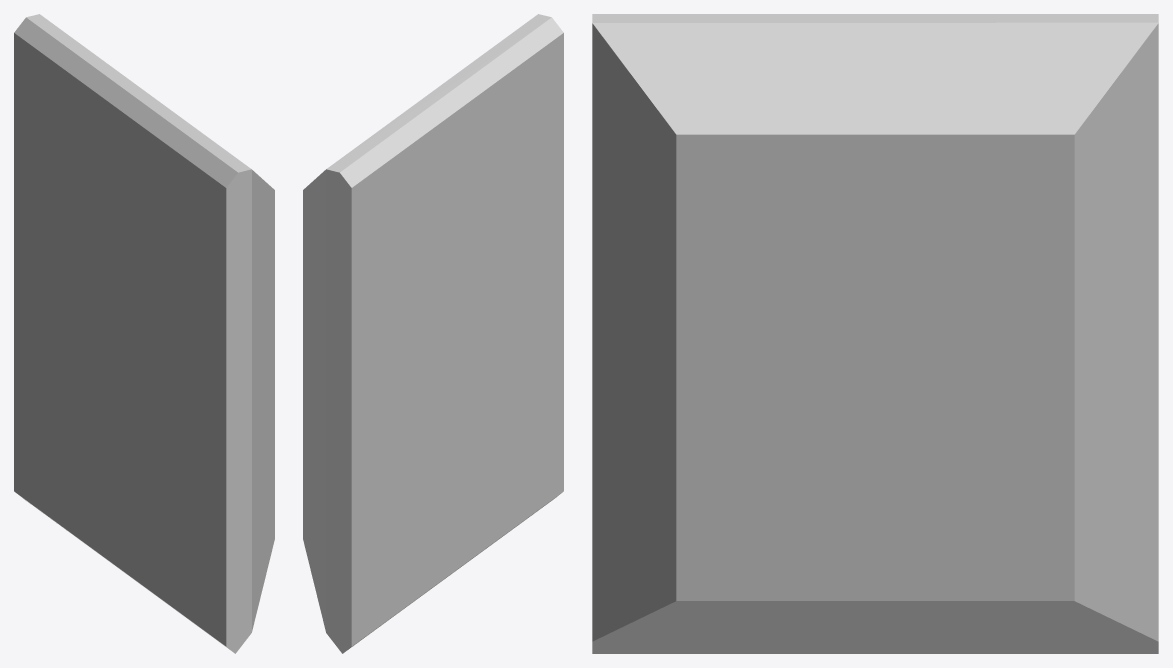
The model's file is SM_house_wall_06.fbx.
The picture shows the model from 3 angles, left to right: view 1: azimuth 30°, elevation 25°; view 2: azimuth 150°, elevation 25°; view 3: azimuth 270°, elevation 25°; orthographic projection. The views are drawn at different scales.
Visible parts, largest first — view 1: SM_house_wall_06_ConvexHulls; view 2: SM_house_wall_06_ConvexHulls; view 3: SM_house_wall_06_ConvexHulls.
Part boxes in pixels (x1,y1,x2,y2): SM_house_wall_06_ConvexHulls: [14, 14, 274, 653]; SM_house_wall_06_ConvexHulls: [303, 14, 563, 653]; SM_house_wall_06_ConvexHulls: [592, 14, 1158, 653].
Size of the model in its own units: 87.25 by 400 by 500.
